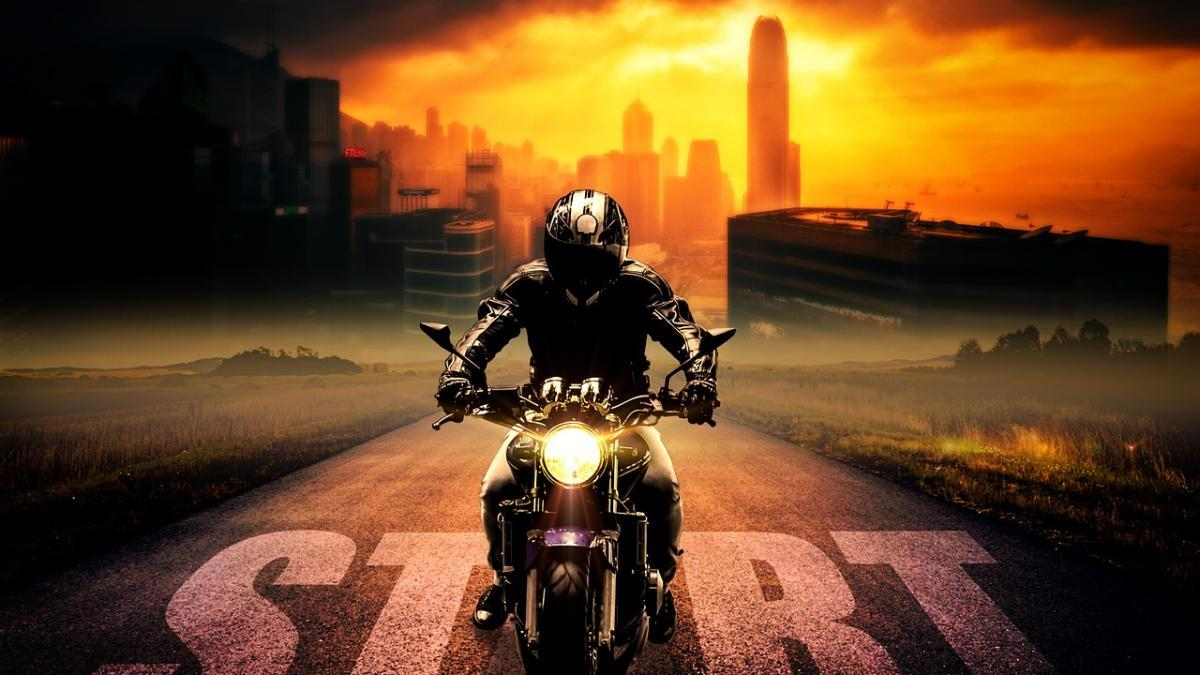helmet: (502, 171, 660, 303)
